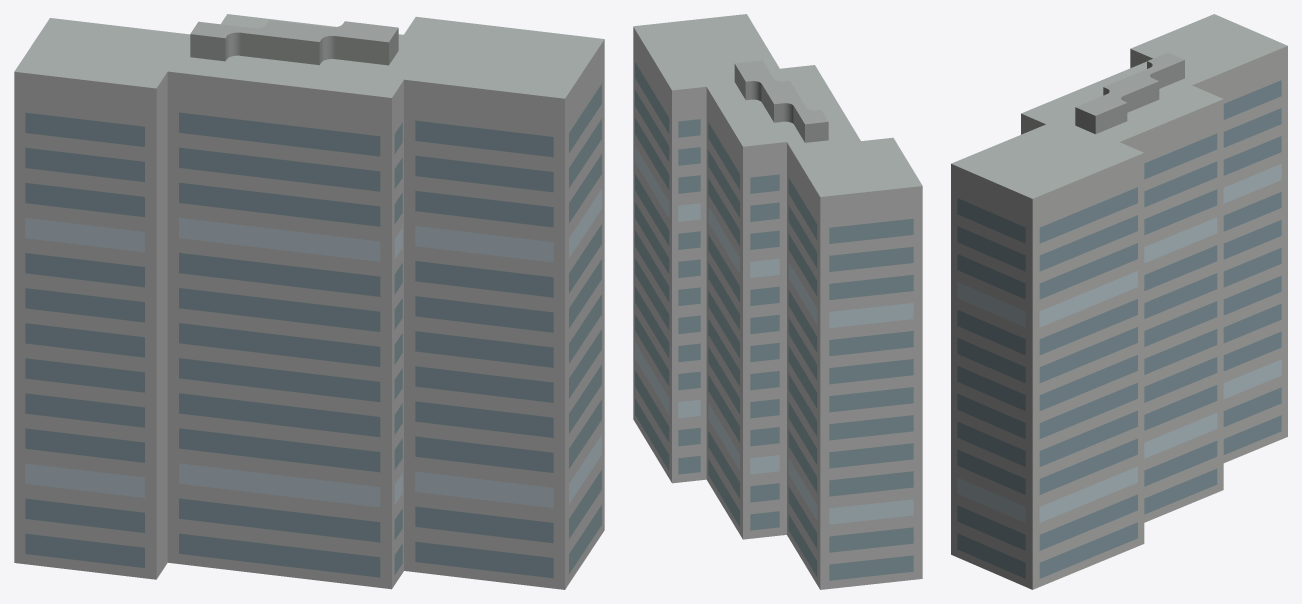
Rendered from apt-a10078103.glb.
3 renders of one model, left to right at view 1: azimuth 30°, elevation 25°; view 2: azimuth 150°, elevation 25°; view 3: azimuth 270°, elevation 25°, orthographic. The views are drawn at different scales.
Visible parts, largest first — view 1: apt-a10078103; view 2: apt-a10078103; view 3: apt-a10078103.
Part boxes in pixels (box(x1,y1,x2,y2)): apt-a10078103: box(14, 14, 604, 589); apt-a10078103: box(633, 14, 922, 589); apt-a10078103: box(951, 14, 1287, 589).
Size of the model in its own units: 38.76 by 40 by 29.83.
